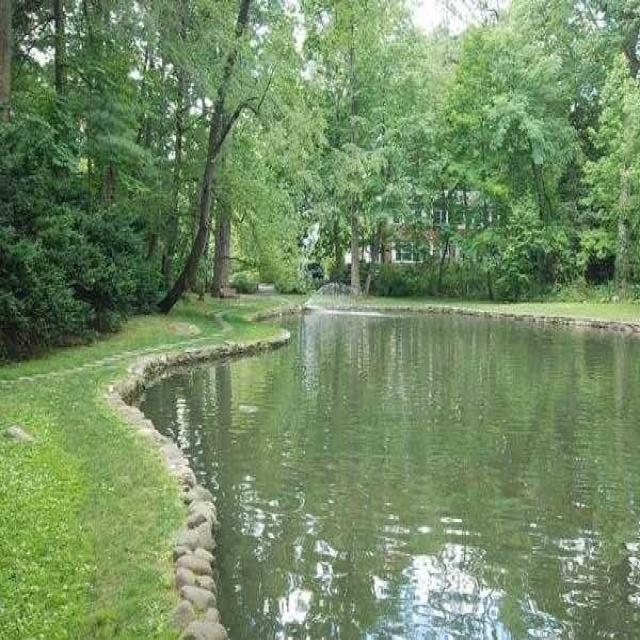Ponds: (104, 303, 640, 640)
